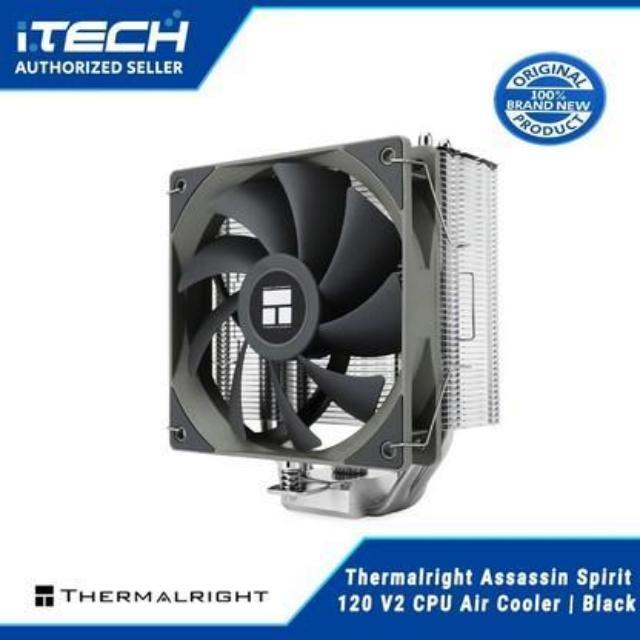CPU_Fan: (162, 128, 506, 526)
